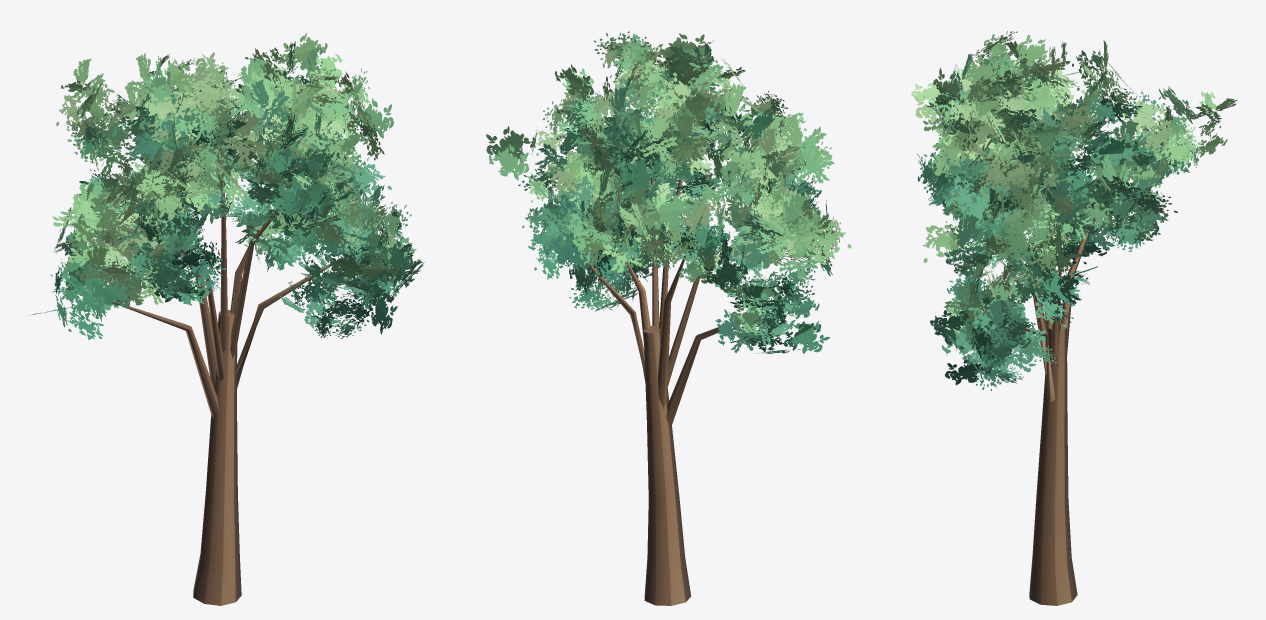
Rendered from Tree_01_Soft_Emerald_LOD1.glb.
3 renders of one model, left to right at view 1: azimuth 30°, elevation 25°; view 2: azimuth 150°, elevation 25°; view 3: azimuth 270°, elevation 25°, orthographic. The views are drawn at different scales.
Parts seen in each view (by area): view 1: Tree_01_Soft_Emerald_LOD1; view 2: Tree_01_Soft_Emerald_LOD1; view 3: Tree_01_Soft_Emerald_LOD1.
Part boxes in pixels (x1,y1,x2,y2): Tree_01_Soft_Emerald_LOD1: (29, 33, 424, 605); Tree_01_Soft_Emerald_LOD1: (486, 31, 851, 605); Tree_01_Soft_Emerald_LOD1: (911, 31, 1237, 605).
Size of the model in its own units: 5.3 by 7.33 by 4.19.
9 materials, 6 textured.
